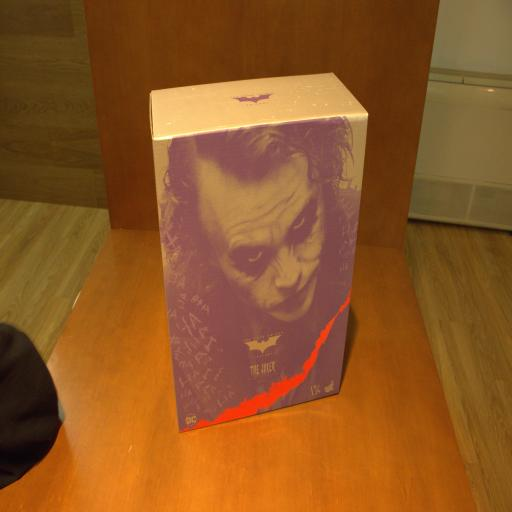Joker: (154, 71, 368, 434)
